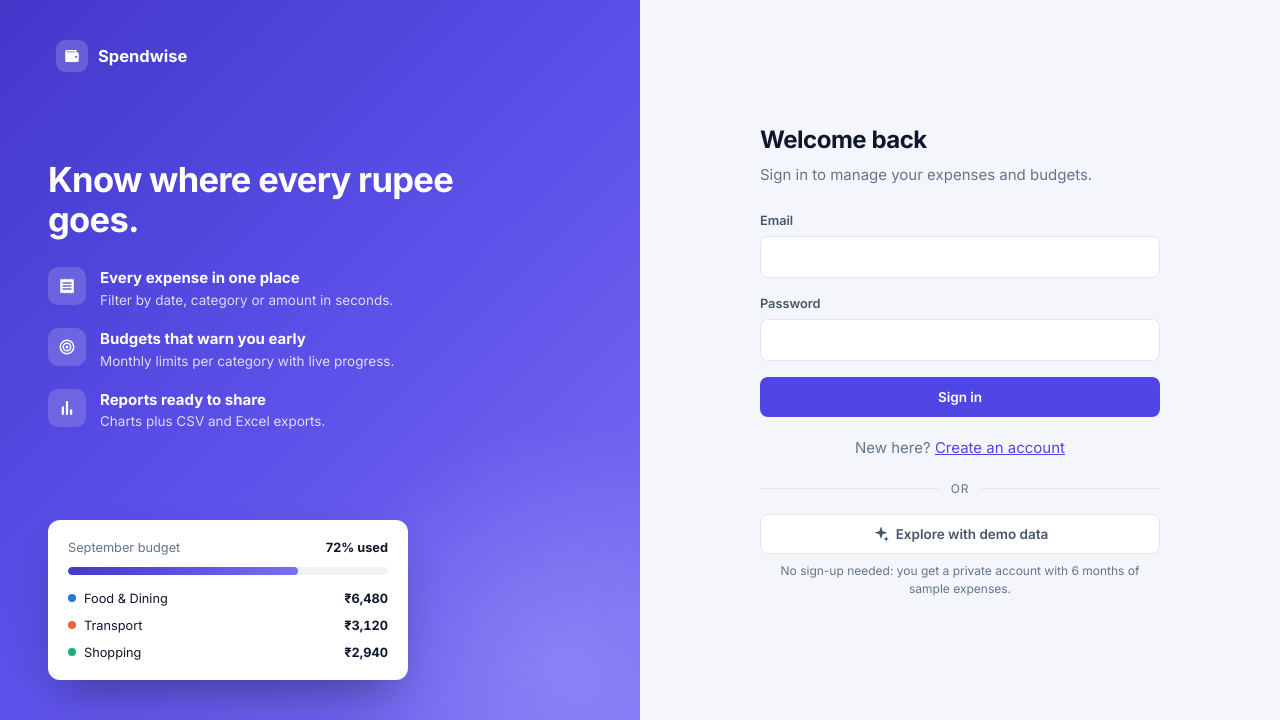
Test: <LoginPage /> › shows the error returned by the API
In the field labelled "Email": point(960, 257) [760,236,1160,278], type "demo@example.com"
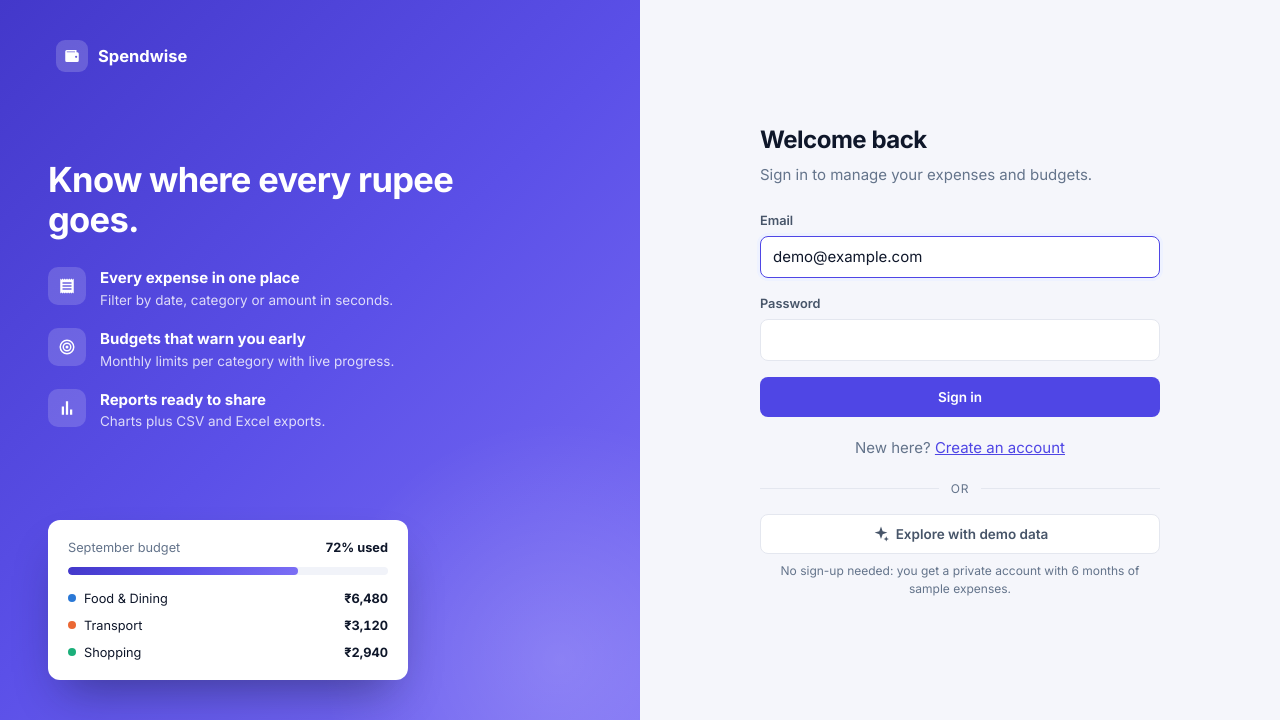
In the password field labelled "Password": point(960, 340) [760,319,1160,361], type "wrong"
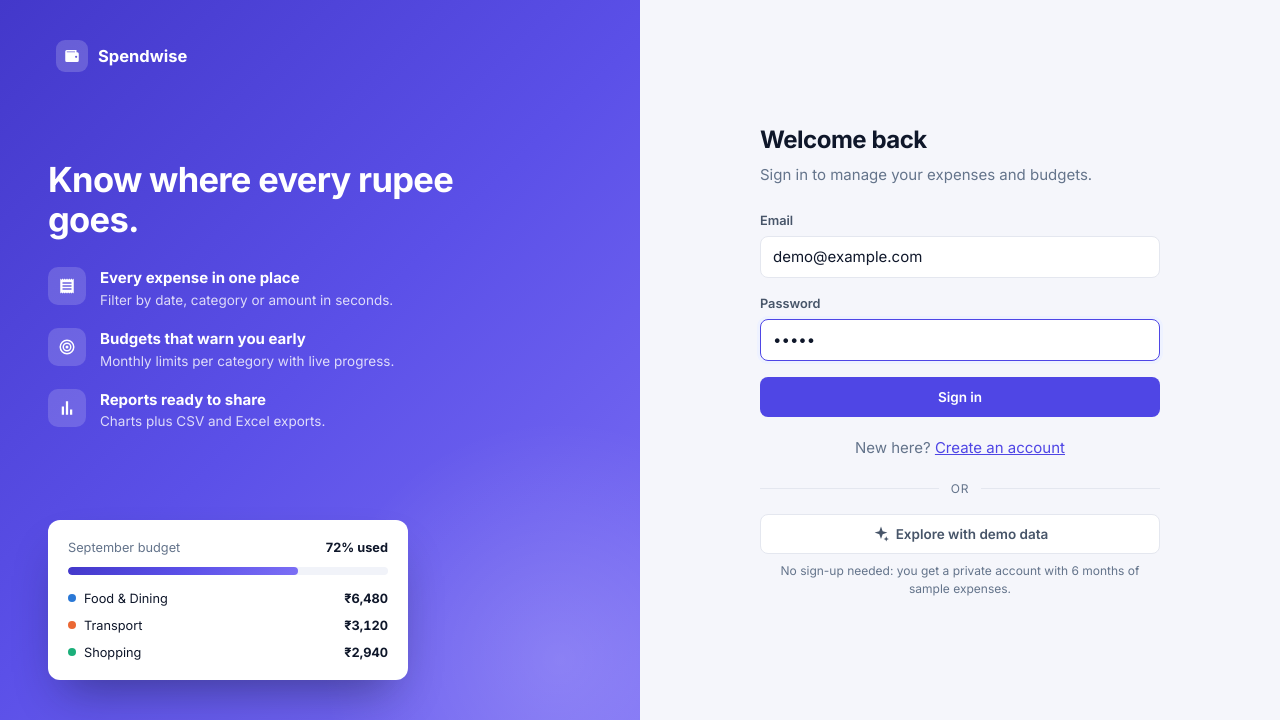
Click the button "Sign in": point(960, 397) [760,377,1160,417]
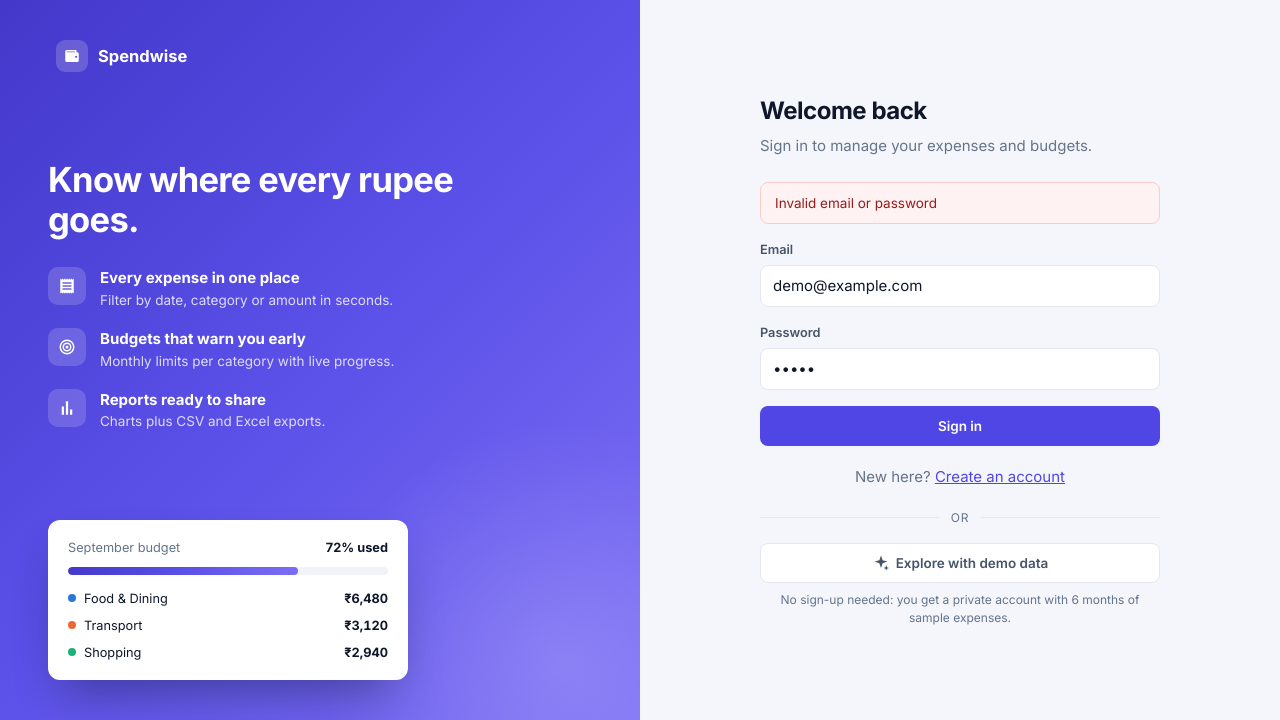
Now the message reads "Invalid email or password", box [775,195,937,211]
